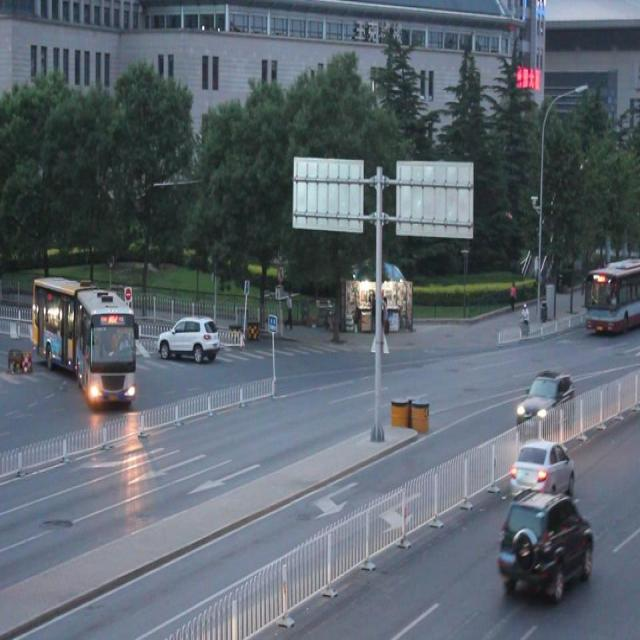car: (502, 489, 593, 595), (510, 439, 573, 503), (517, 366, 574, 428), (158, 317, 219, 363)
van: (31, 276, 137, 404)
